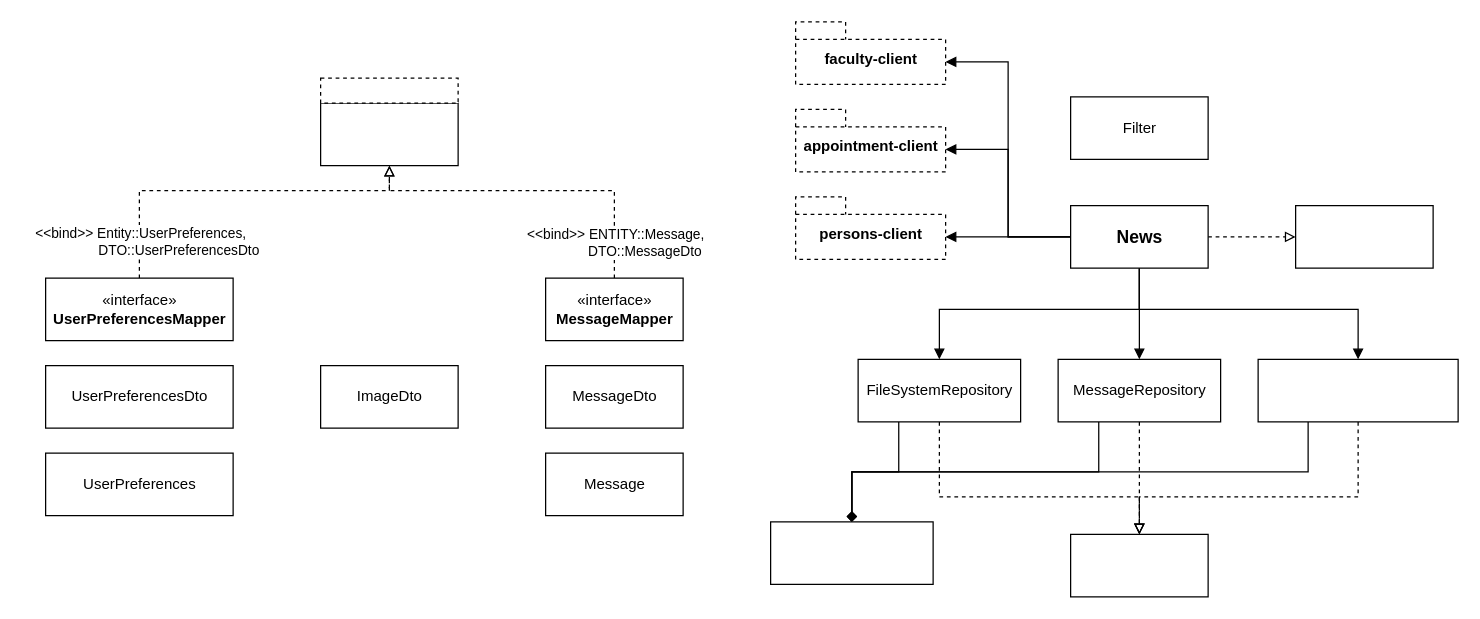
This 1480x619 diagram has some shape labels left out. Each missing label, with the box of its shape:
Database: (769, 521, 933, 584)
ENTITY, DTO: (319, 77, 458, 103)
UserPreferenceRepository: (1257, 358, 1458, 422)
«interface» BeanMapper: (319, 102, 458, 166)
«interface» NewsClient: (1294, 204, 1433, 268)
«interface» Repository: (1069, 533, 1208, 597)
